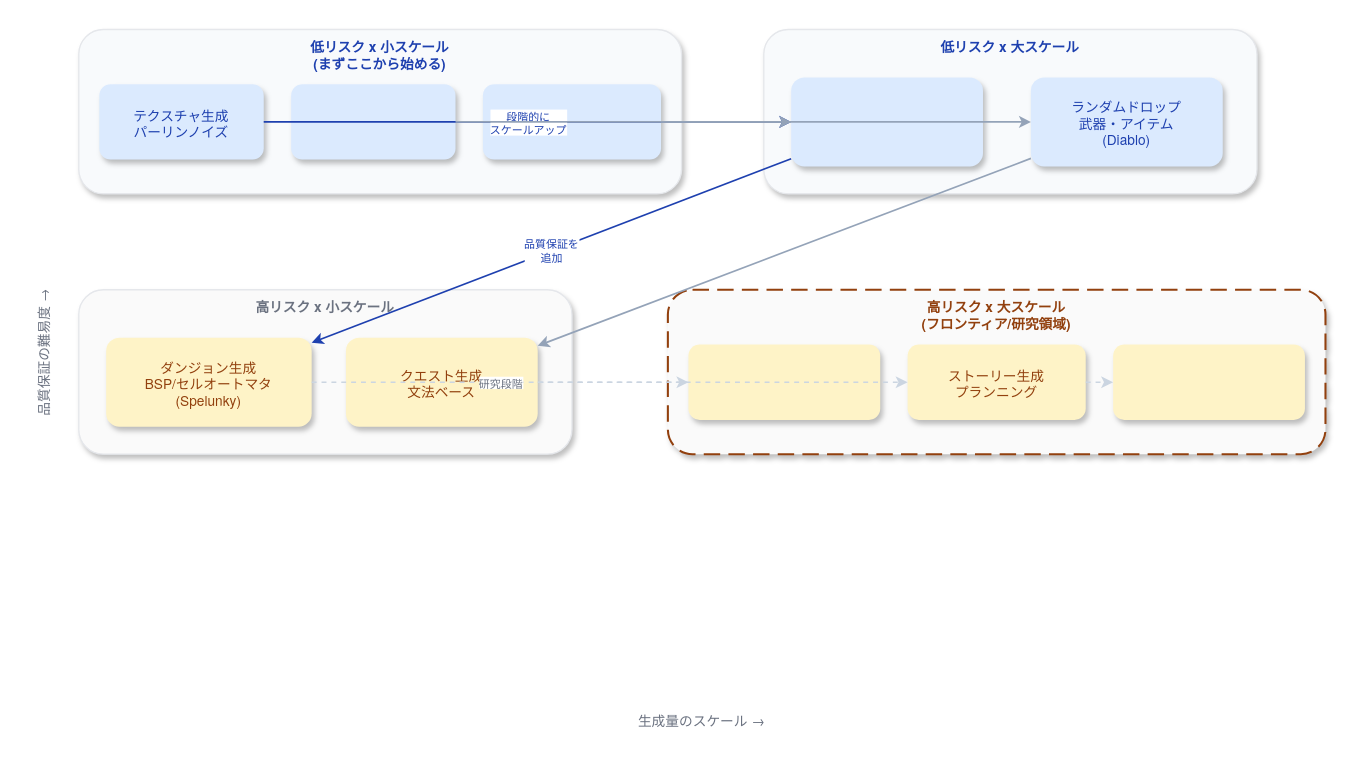
This 1358x766 diagram has some shape labels left out. The shapes that lost their labels are listed below. From the top down, each one's centre as x and y in pixels, then its label:
pixel 374 123: 植生配置 L-system
pixel 573 123: 装飾アイテム パラメトリック生成
pixel 888 123: 地形生成 フラクタル/ノイズ (Minecraft)
pixel 785 383: 完全ワールド生成 (No Man's Sky)
pixel 1209 383: ゲームルール生成 (Yavalath)
